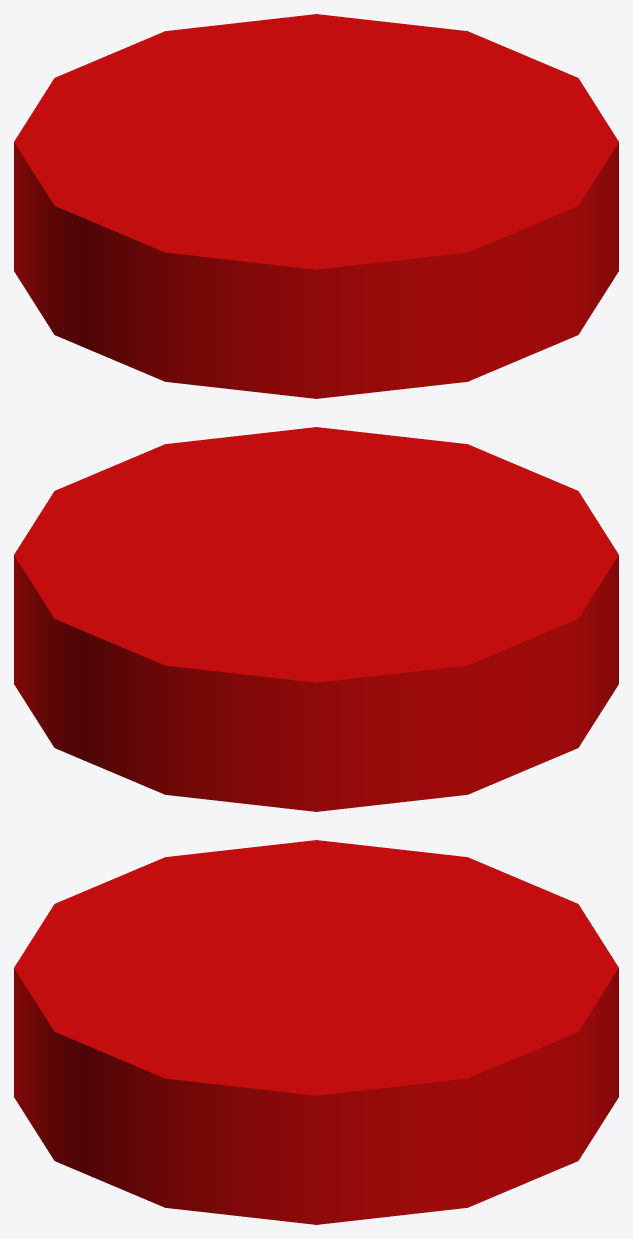
Rendered from light_spot.FBX.
3 views of the same model, one above another, from view 1: azimuth 30°, elevation 25°; view 2: azimuth 150°, elevation 25°; view 3: azimuth 270°, elevation 25° (orthographic).
Visible parts, largest first — view 1: Spotlight; view 2: Spotlight; view 3: Spotlight.
Boxes of the visible parts, x1,y1,x2,y2 form: Spotlight: (14,14,618,398); Spotlight: (14,427,618,811); Spotlight: (14,840,618,1224).
Size of the model in its own units: 70.12 by 16.53 by 70.12.
